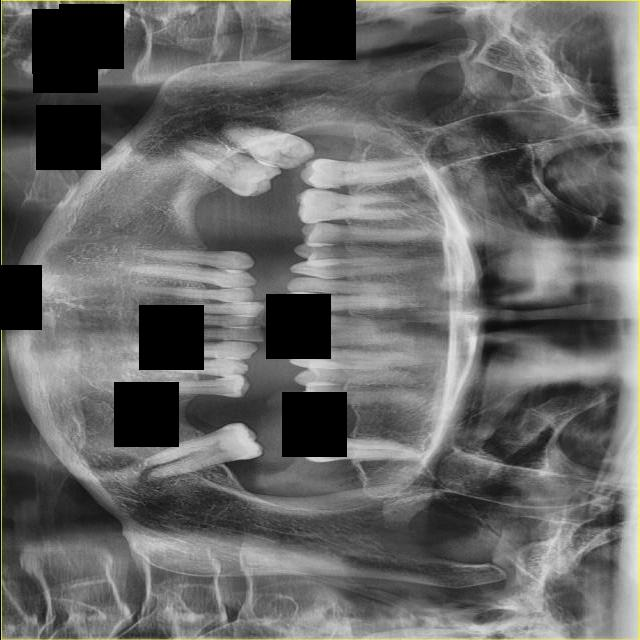Sterngold Implant: (302, 331, 328, 339), (306, 287, 334, 293)
